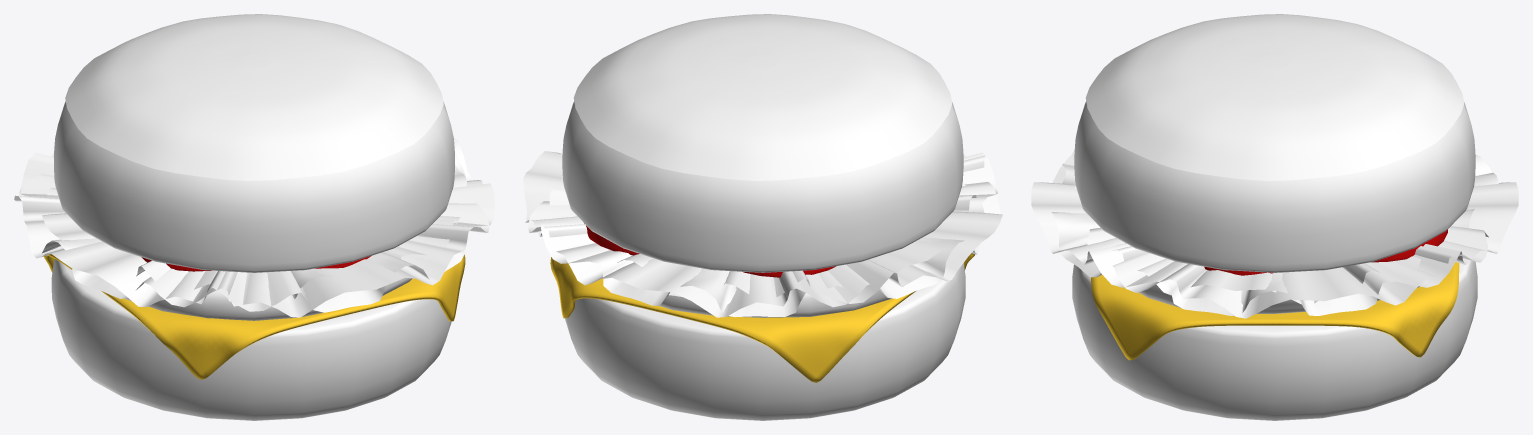
File: Burguer.gltf
The picture shows the model from 3 angles, left to right: view 1: azimuth 30°, elevation 25°; view 2: azimuth 150°, elevation 25°; view 3: azimuth 270°, elevation 25°; orthographic projection.
Parts seen in each view (by area): view 1: topping_particle, top, buttom, veg.002, veg, chesse, veg.001, meat; view 2: topping_particle, top, buttom, veg.002, veg, chesse, veg.001, meat, totato; view 3: topping_particle, top, buttom, veg, chesse, veg.002, veg.001, meat, totato.
Boxes of the visible parts, left/top/right/bottom form: topping_particle: left=65, top=14, right=443, bottom=180; top: left=54, top=54, right=454, bottom=272; buttom: left=51, top=259, right=451, bottom=420; veg.002: left=14, top=138, right=494, bottom=312; veg: left=19, top=152, right=489, bottom=317; chesse: left=44, top=254, right=465, bottom=379; veg.001: left=42, top=164, right=466, bottom=301; meat: left=124, top=278, right=412, bottom=320; topping_particle: left=573, top=14, right=952, bottom=180; top: left=562, top=54, right=963, bottom=272; buttom: left=565, top=263, right=965, bottom=420; veg.002: left=523, top=151, right=1002, bottom=317; veg: left=528, top=152, right=997, bottom=317; chesse: left=550, top=253, right=974, bottom=382; veg.001: left=549, top=183, right=976, bottom=296; meat: left=660, top=289, right=891, bottom=317; totato: left=584, top=223, right=835, bottom=277; topping_particle: left=1085, top=14, right=1464, bottom=180; top: left=1074, top=54, right=1475, bottom=272; buttom: left=1072, top=260, right=1477, bottom=420; veg: left=1031, top=155, right=1518, bottom=315; chesse: left=1091, top=262, right=1459, bottom=360; veg.002: left=1051, top=150, right=1498, bottom=318; veg.001: left=1075, top=186, right=1474, bottom=304; meat: left=1139, top=284, right=1419, bottom=313; totato: left=1204, top=229, right=1447, bottom=275.
Size of the model in its own units: 2.32 by 1.5 by 2.33.
